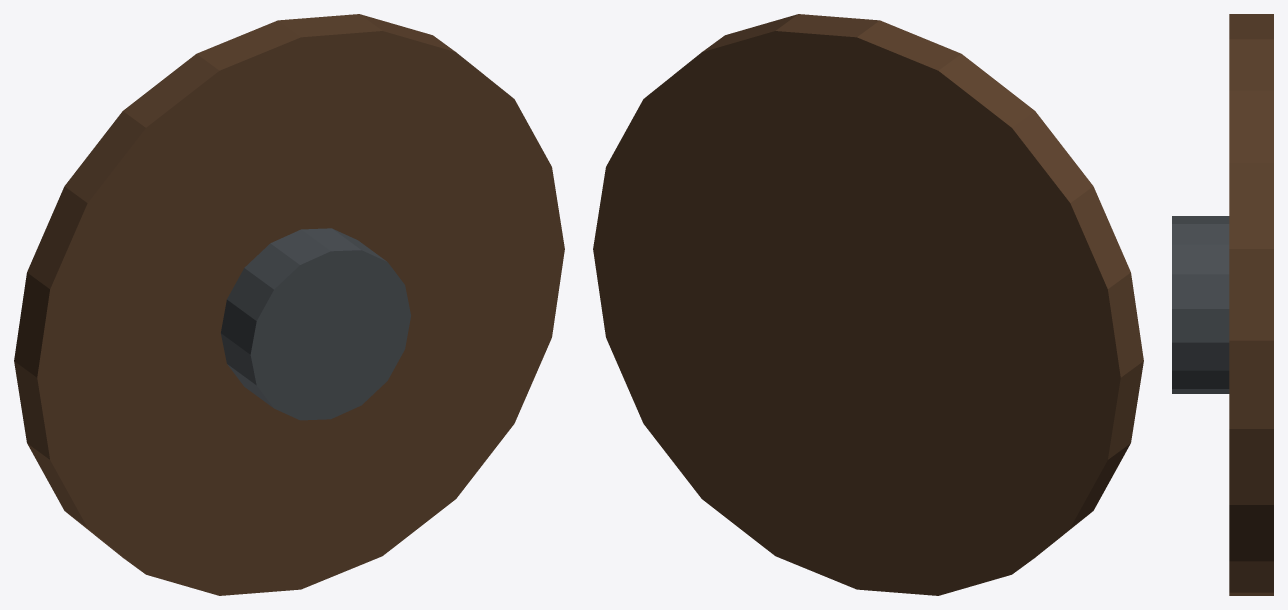
The model's file is SM_RoundShield.obj.
3 views of the same model, side by side, from view 1: azimuth 30°, elevation 25°; view 2: azimuth 150°, elevation 25°; view 3: azimuth 270°, elevation 25° (orthographic). The views are drawn at different scales.
Bounding box in the file's own units: 0.92 × 0.92 × 0.16.
